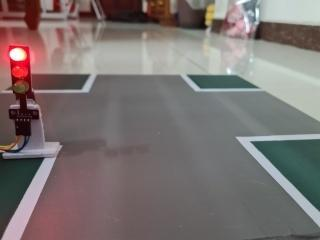red: (4, 34, 39, 106)
